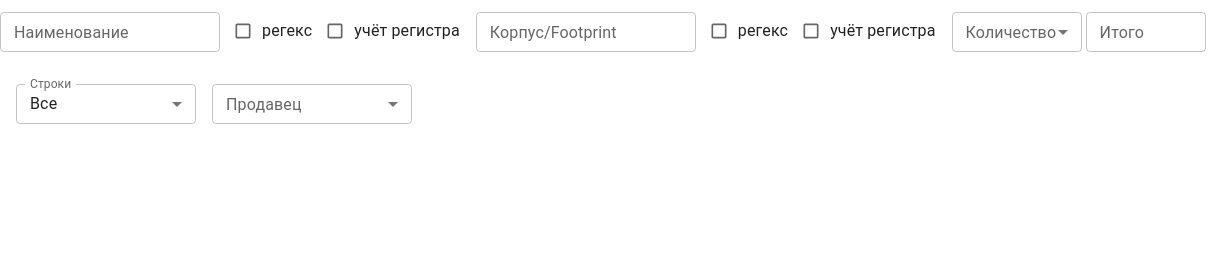
Комбобокс режимов › не предлагает «Только общие» на листах без этого флага
Step 1. Press the mouse on the dropdown named "Строки" → (44, 104), box [30,94,57,113]
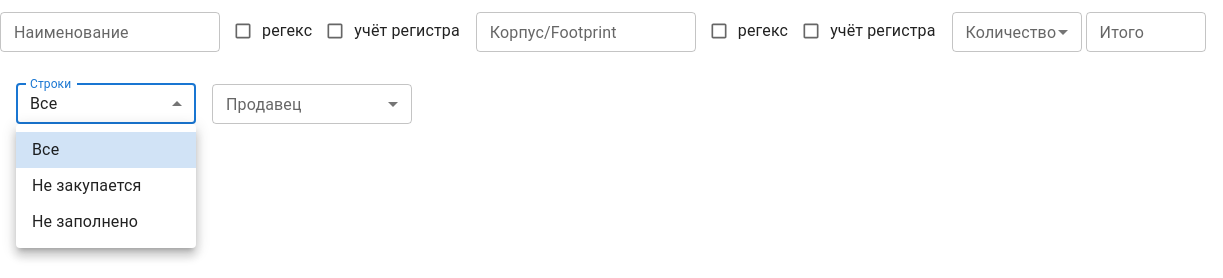
Check: the option "Не заполнено" is shown, box [32,212,138,231]
